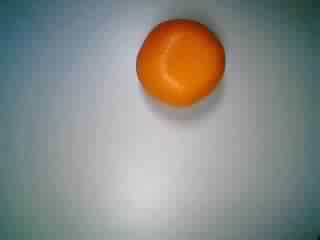orange: (134, 15, 229, 109)
